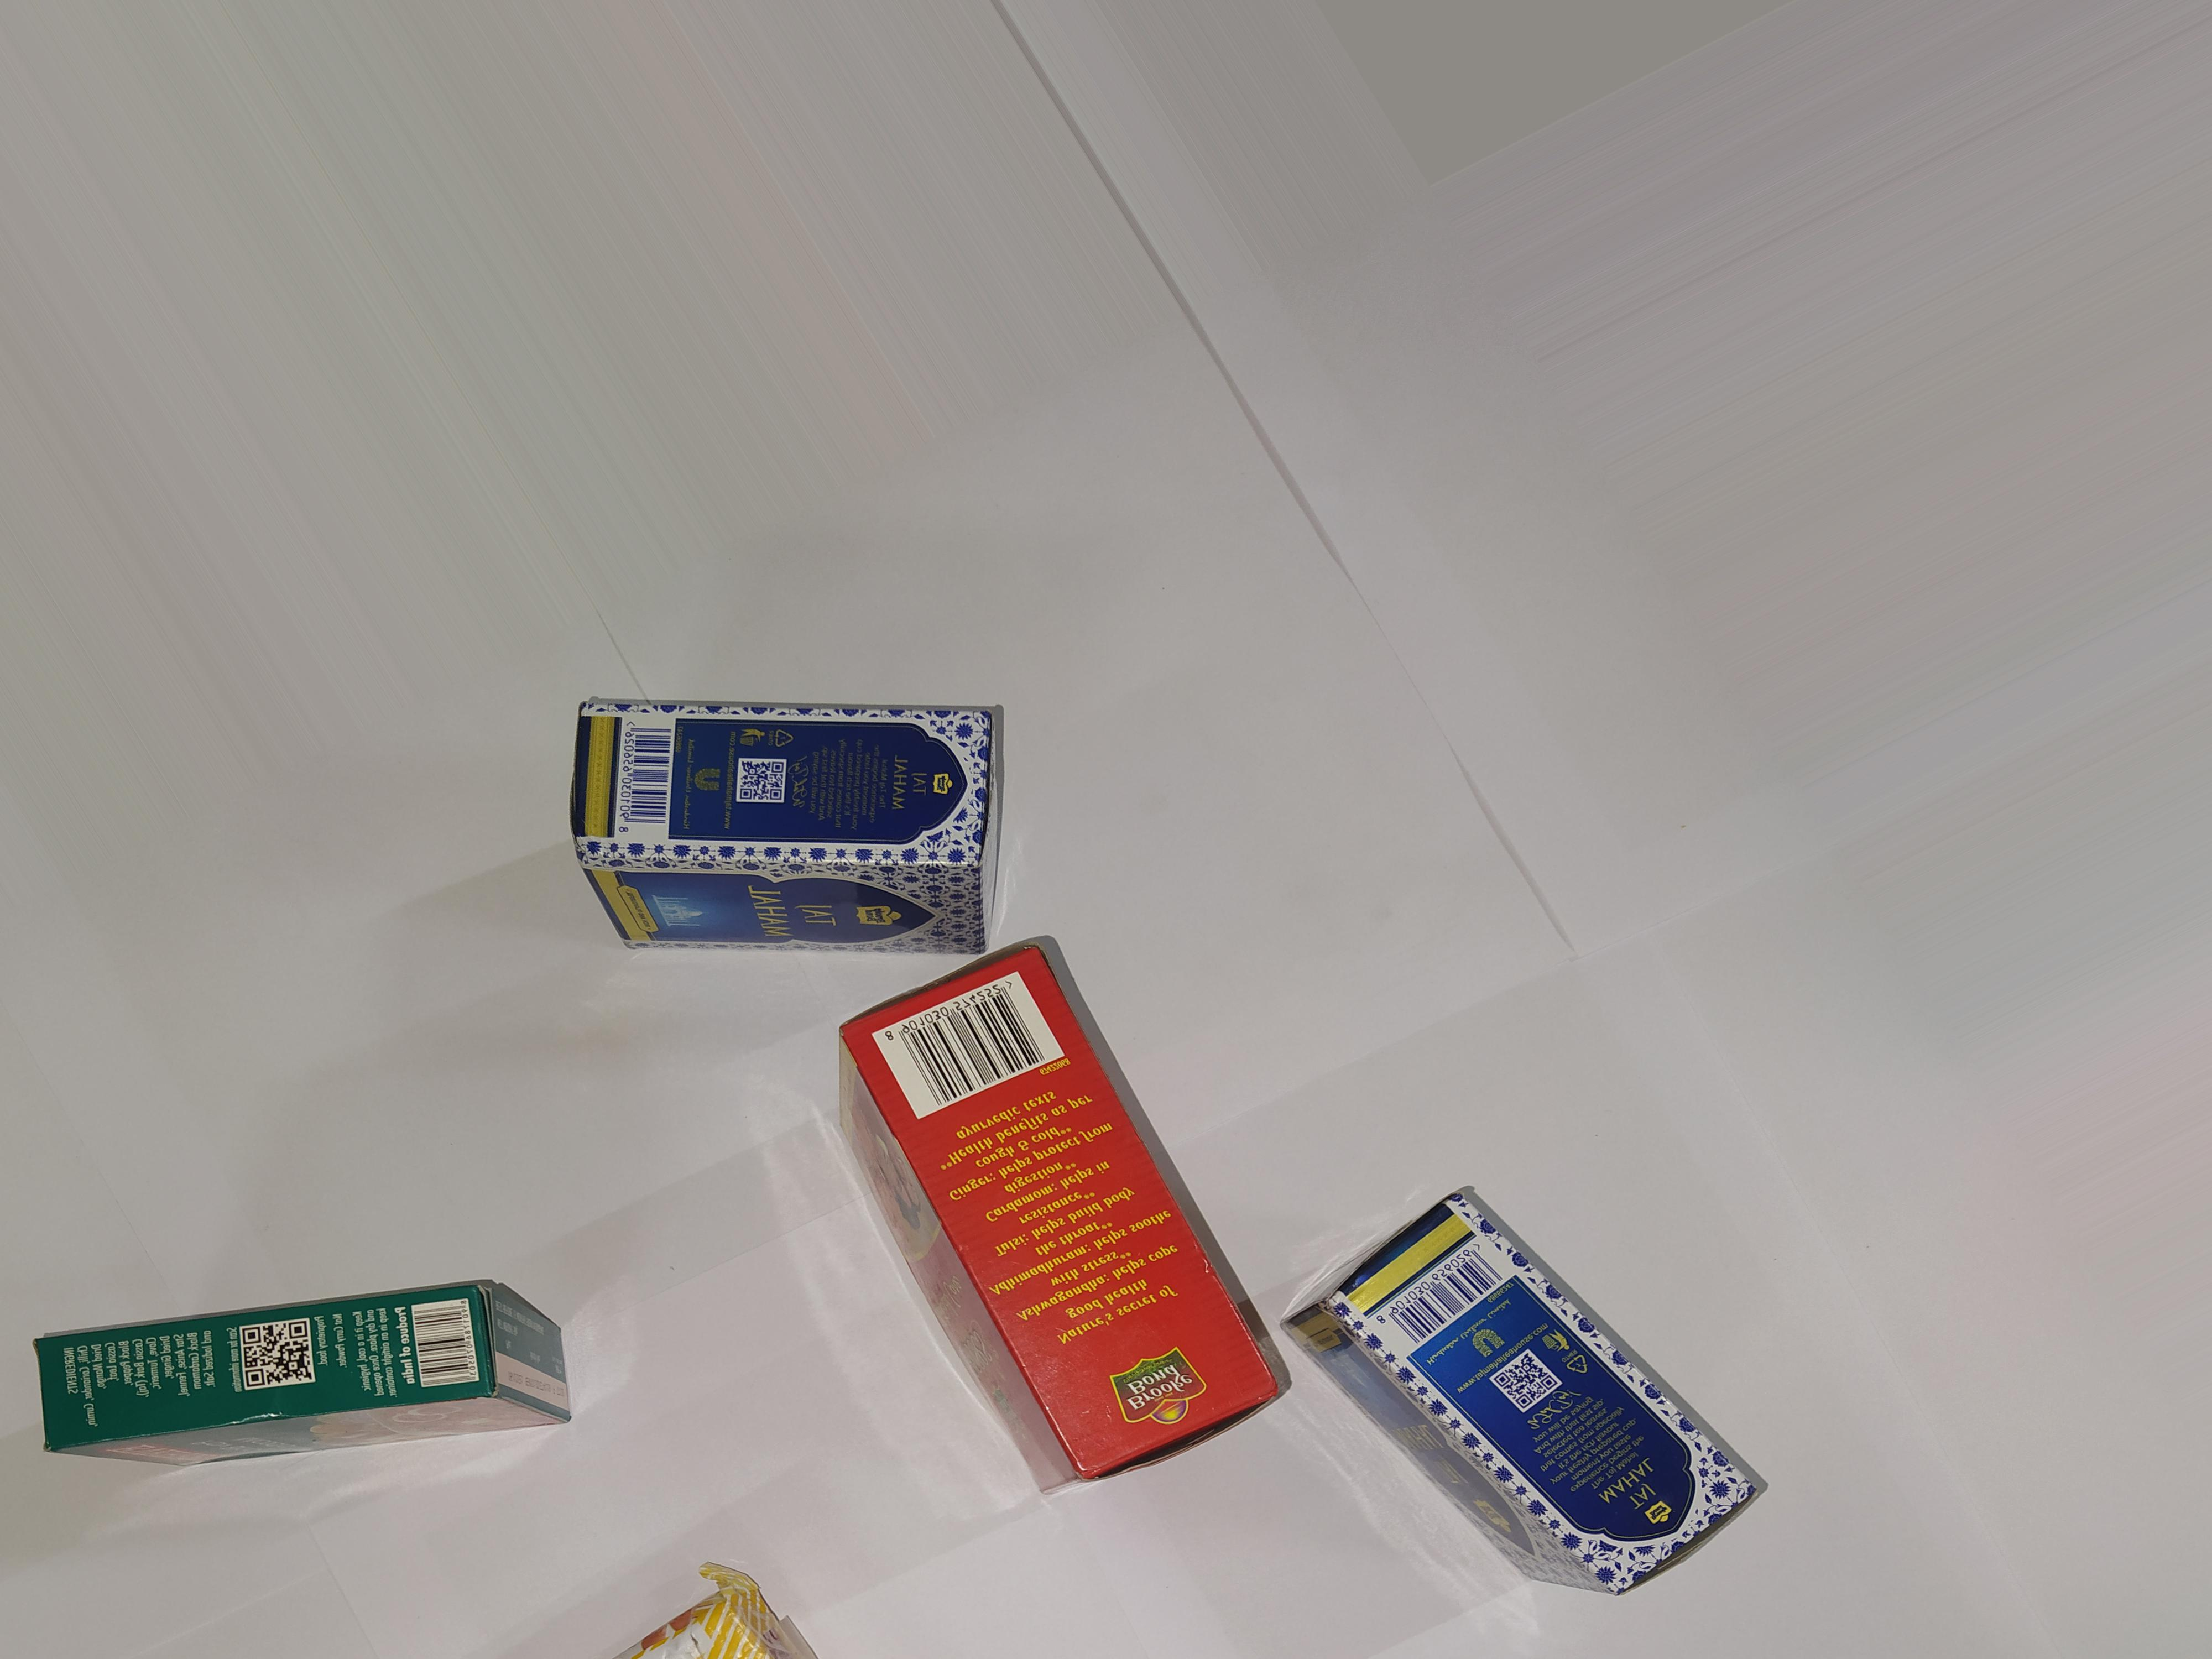Bar_code: (857, 958, 1094, 1119), (1359, 1243, 1540, 1354), (395, 1297, 502, 1398), (608, 711, 679, 836)
Item: (836, 934, 1312, 1523), (1299, 1161, 1804, 1589), (531, 659, 1022, 964), (5, 1277, 596, 1495)
QR_code: (204, 1302, 333, 1389), (1489, 1342, 1571, 1424), (730, 767, 799, 810)
